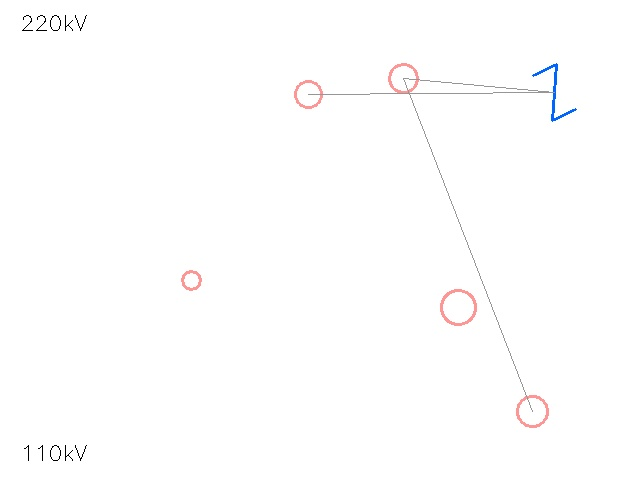circuit_breaker: (527, 65, 581, 119)
disconnect_switch: (501, 380, 563, 442)
feeder_terminal: (173, 262, 209, 298)
reactor: (424, 273, 492, 341), (374, 49, 432, 107), (281, 67, 335, 121)
